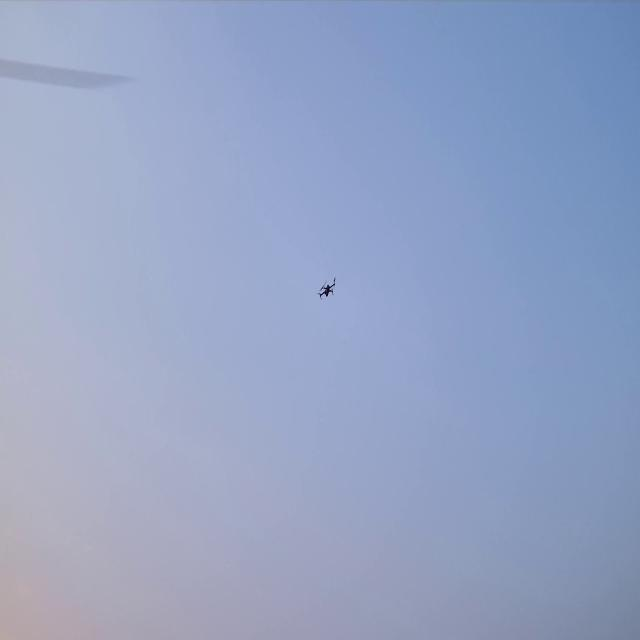UAV: (317, 274, 337, 300)
